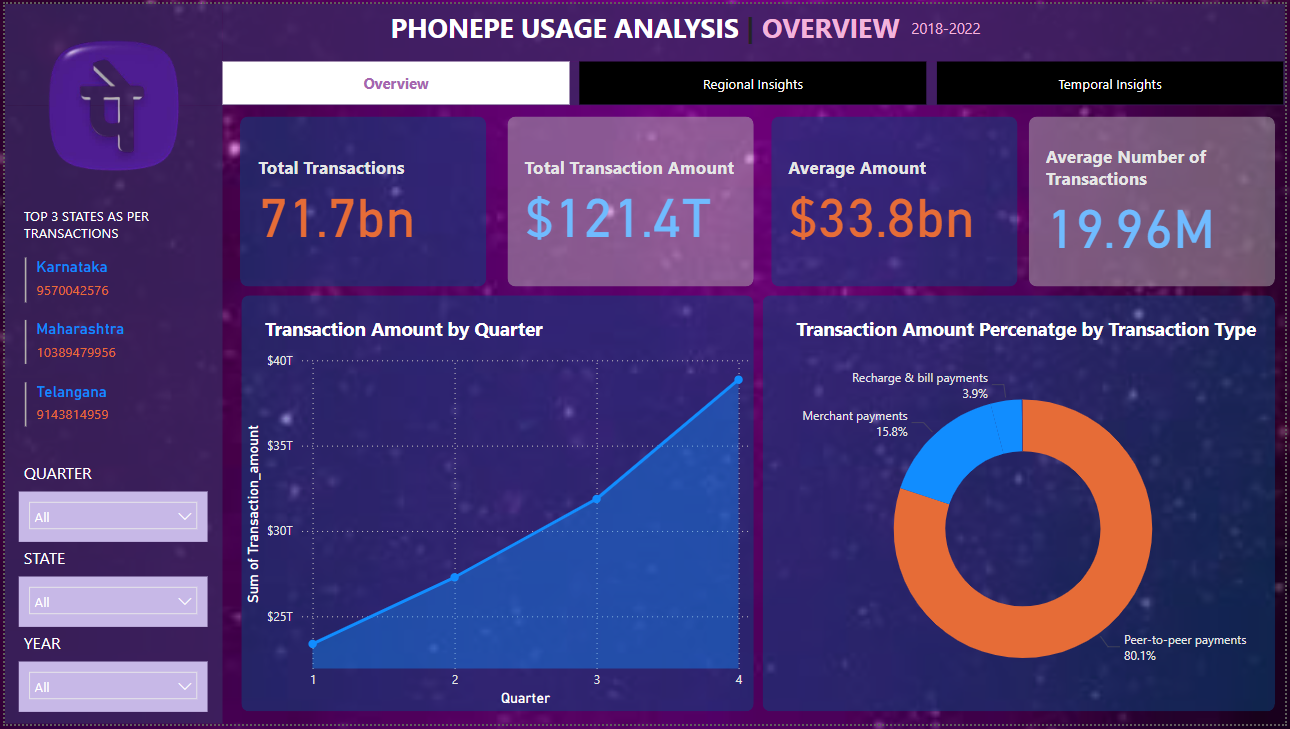

This screenshot's page, from the dashboard's own definition file:
{"tool":"powerbi","page":{"name":"Overview","canvas":[1280,720],"ordinal":0},"visuals":[{"type":"shape","box":[757.5,291.2,512.5,416.2],"z":0},{"type":"shape","box":[236.2,291.2,512.5,416.2],"z":1000},{"type":"shape","box":[235,112.5,246.2,170],"z":2000},{"type":"cardVisual","fields":{"Data":["Agg_Trans.Total Transactions"]},"box":[236.2,112.5,246.2,170],"z":3000},{"type":"shape","box":[217.5,0,1062.5,57.5],"z":4000},{"type":"shape","box":[217.5,57.5,1062.5,43.8],"z":5000},{"type":"shape","box":[0,101.2,217.5,618.8],"z":6000},{"type":"shape","box":[0,0,217.5,101.2],"z":7000},{"type":"textbox","box":[13.8,452.5,188.8,35],"z":8000},{"type":"textbox","box":[0,0,1280,51.2],"z":9000},{"type":"shape","box":[502.5,112.5,246.2,170],"z":10000},{"type":"shape","box":[766.2,112.5,246.2,170],"z":11000},{"type":"shape","box":[1023.8,112.5,246.2,170],"z":12000},{"type":"cardVisual","fields":{"Data":["Agg_Trans.Total Amount"]},"box":[502.5,112.5,246.2,170],"z":13000},{"type":"cardVisual","fields":{"Data":["Agg_Trans.Average Amount"]},"box":[766.2,112.5,246.2,170],"z":14000},{"type":"cardVisual","fields":{"Data":["Agg_Trans.Average Number of Transactions"]},"box":[1023.8,112.5,246.2,170],"z":15000},{"type":"lineChart","fields":{"Y":["Sum(Agg_Trans.Transaction_amount)"],"Category":["Agg_Trans.Quarter"]},"box":[235,342.5,513.8,365],"z":16000},{"type":"donutChart","fields":{"Category":["Agg_Trans.Transaction_type"],"Y":["Sum(Agg_Trans.Transaction_amount)"]},"box":[766.2,342.5,503.8,365],"z":17000},{"type":"textbox","box":[786.2,307.5,483.8,35],"z":18000},{"type":"textbox","box":[255,307.5,325,35],"z":19000},{"type":"slicer","fields":{"Values":["Agg_Trans.State"]},"box":[13.8,572.5,188.8,50],"z":20000},{"type":"slicer","fields":{"Values":["Agg_Trans.Year"]},"box":[13.8,657.5,188.8,50],"z":21000},{"type":"textbox","box":[13.8,622.5,188.8,35],"z":22000},{"type":"slicer","fields":{"Values":["Agg_Trans.Quarter"]},"box":[13.8,487.5,188.8,50],"z":23000},{"type":"textbox","box":[13.8,537.5,188.8,35],"z":24000},{"type":"image","box":[0,0,217.5,203.8],"z":25000},{"type":"pageNavigator","box":[217.5,57.5,1062.5,43.8],"z":26000},{"type":"multiRowCard","fields":{"Values":["Agg_Trans.State","Sum(Agg_Trans.Transaction_count)"]},"box":[15,248.8,188.8,203.8],"z":27000},{"type":"textbox","box":[13.8,197.5,188.8,51.2],"z":28000},{"type":"textbox","box":[901.2,8.8,188.8,40],"z":29000}]}

Visuals, with their boxes in screenshot pixels (x1, y1, x2, y2), scaled from the page's 1280x720 canvas onto the 1290x729 screenshot:
shape: box=[763, 295, 1280, 716]
shape: box=[238, 295, 755, 716]
shape: box=[237, 114, 485, 286]
cardVisual - Agg_Trans.Total Transactions: box=[238, 114, 486, 286]
shape: box=[219, 0, 1289, 58]
shape: box=[219, 58, 1289, 103]
shape: box=[0, 102, 219, 728]
shape: box=[0, 0, 219, 102]
textbox: box=[14, 458, 204, 494]
textbox: box=[0, 0, 1289, 52]
shape: box=[506, 114, 755, 286]
shape: box=[772, 114, 1020, 286]
shape: box=[1032, 114, 1280, 286]
cardVisual - Agg_Trans.Total Amount: box=[506, 114, 755, 286]
cardVisual - Agg_Trans.Average Amount: box=[772, 114, 1020, 286]
cardVisual - Agg_Trans.Average Number of Transactions: box=[1032, 114, 1280, 286]
lineChart - Sum(Agg_Trans.Transaction_amount) x Agg_Trans.Quarter: box=[237, 347, 755, 716]
donutChart - Agg_Trans.Transaction_type x Sum(Agg_Trans.Transaction_amount): box=[772, 347, 1280, 716]
textbox: box=[792, 311, 1280, 347]
textbox: box=[257, 311, 585, 347]
slicer - Agg_Trans.State: box=[14, 580, 204, 630]
slicer - Agg_Trans.Year: box=[14, 666, 204, 716]
textbox: box=[14, 630, 204, 666]
slicer - Agg_Trans.Quarter: box=[14, 494, 204, 544]
textbox: box=[14, 544, 204, 580]
image: box=[0, 0, 219, 206]
pageNavigator: box=[219, 58, 1289, 103]
multiRowCard - Agg_Trans.State x Sum(Agg_Trans.Transaction_count): box=[15, 252, 205, 458]
textbox: box=[14, 200, 204, 252]
textbox: box=[908, 9, 1099, 49]
